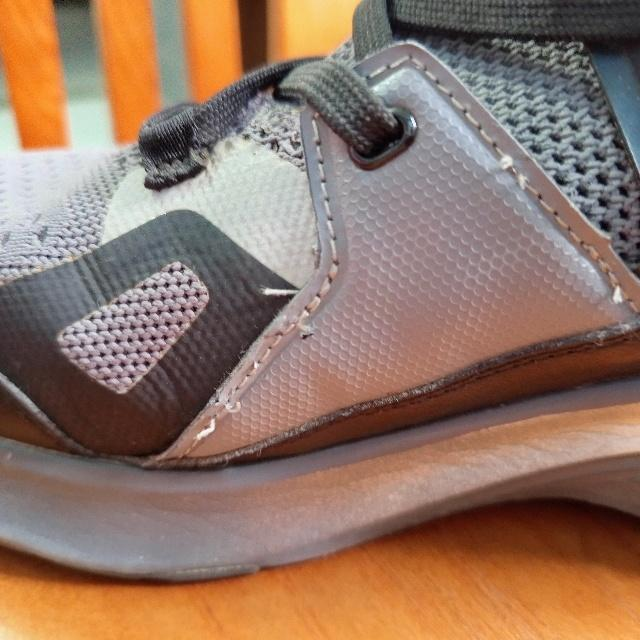broken: (191, 394, 242, 444), (495, 151, 529, 193)
